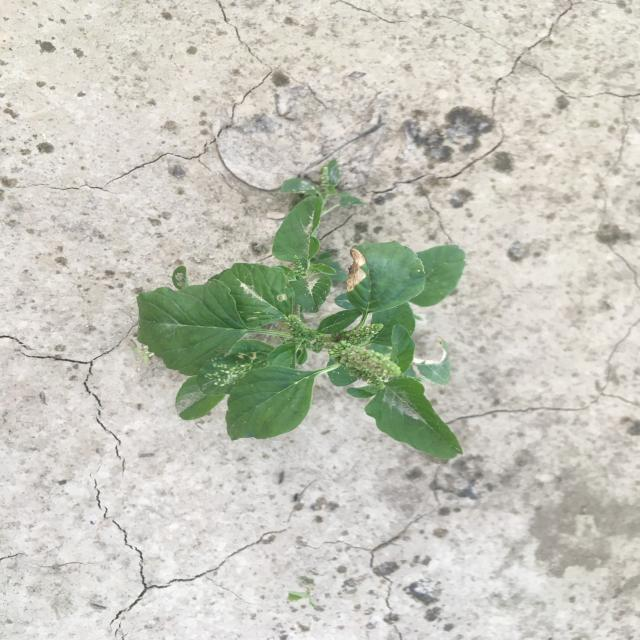PalmerAmaranth: (133, 155, 469, 463)
